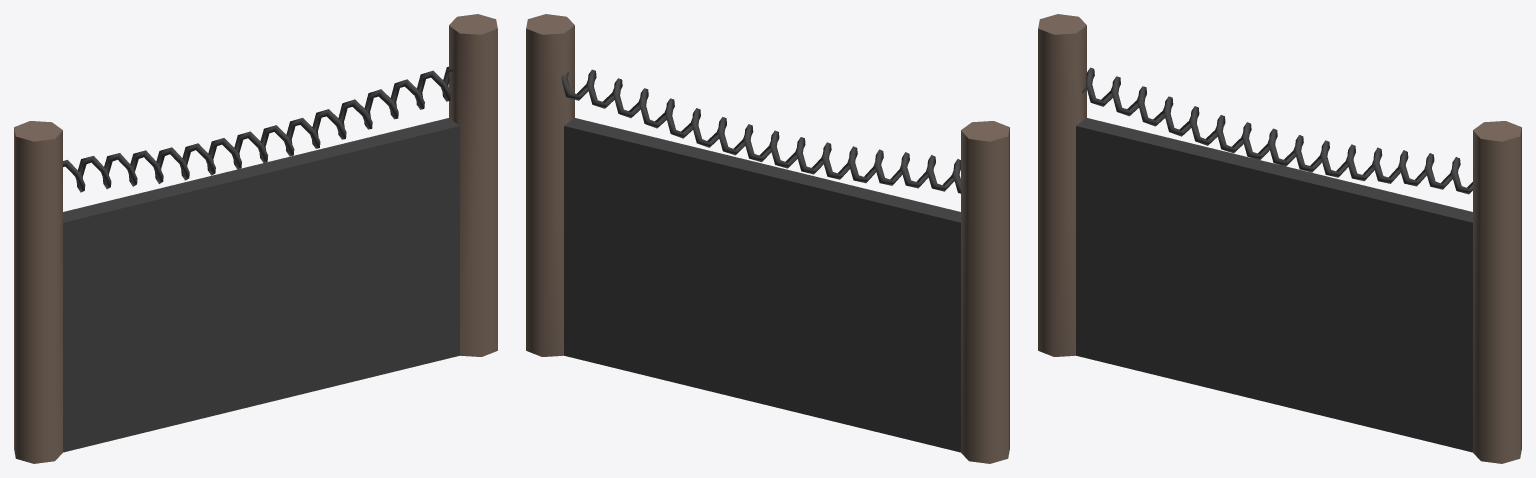
File: military wall [1].FBX
3 renders of one model, left to right at view 1: azimuth 30°, elevation 25°; view 2: azimuth 150°, elevation 25°; view 3: azimuth 330°, elevation 25°, orthographic.
Visible parts, largest first — view 1: Cylinder001; view 2: Cylinder001; view 3: Cylinder001.
Part boxes in pixels (box(x1,y1,x2,y2)): Cylinder001: box(14, 14, 497, 463); Cylinder001: box(526, 14, 1009, 463); Cylinder001: box(1038, 14, 1521, 463).
Size of the model in its own units: 42.99 by 27.56 by 3.84.
